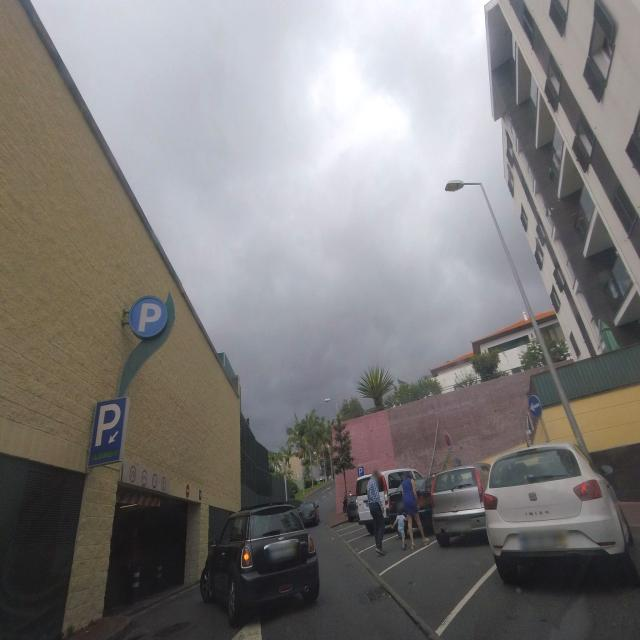car: (484, 441, 631, 585), (200, 499, 320, 627), (431, 464, 490, 548), (367, 468, 427, 536), (348, 474, 372, 525), (298, 500, 320, 528)
